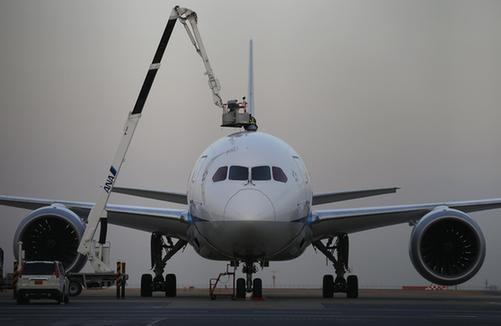airplane: (1, 37, 485, 300)
